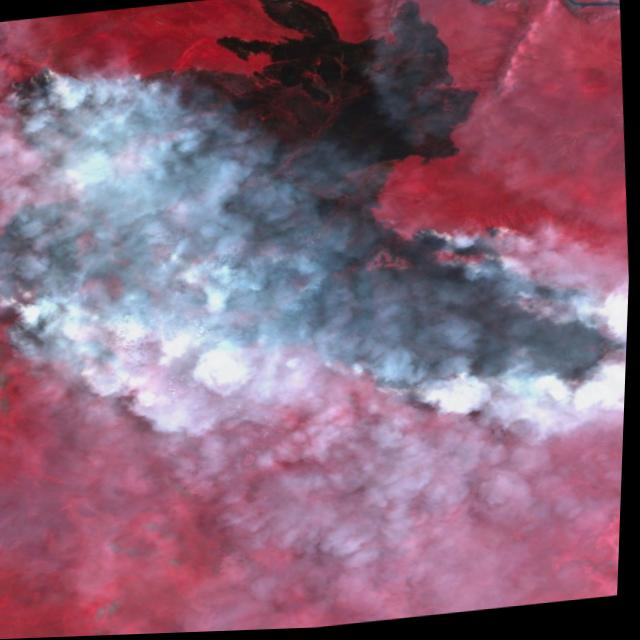fire: (0, 38, 264, 394), (302, 205, 633, 453)
